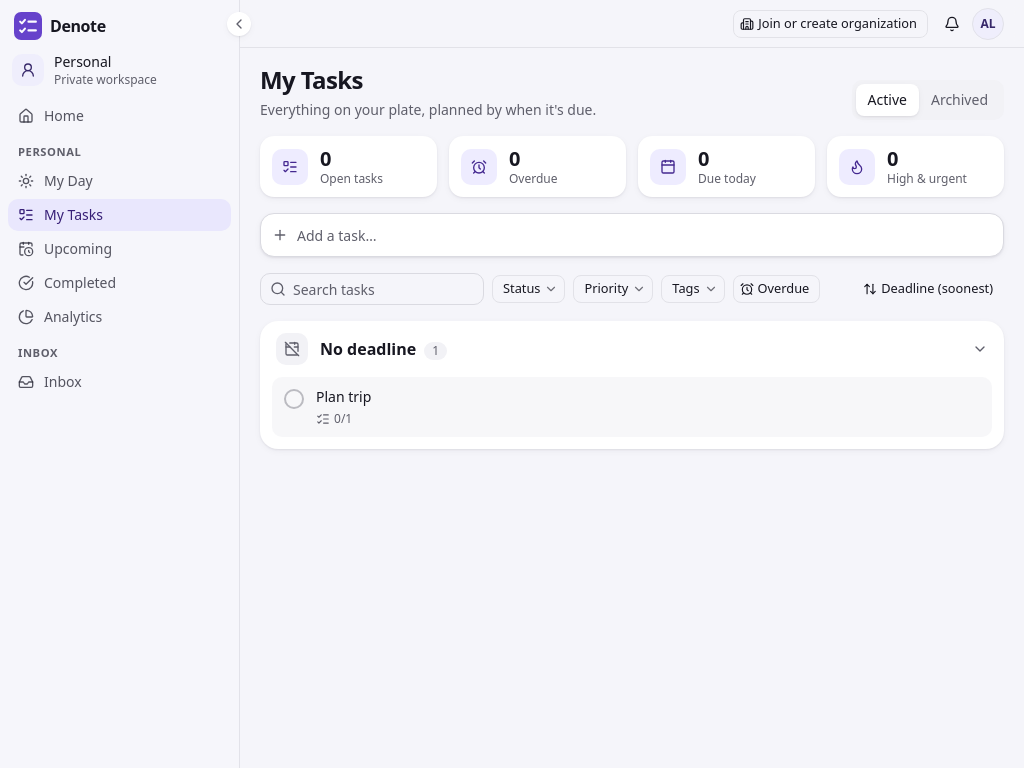
Test: creating and completing › ticks a task optimistically and rolls back when the server refuses
Click the checkbox named "complete “plan trip”".
click(294, 399)  # box [284, 389, 304, 409]
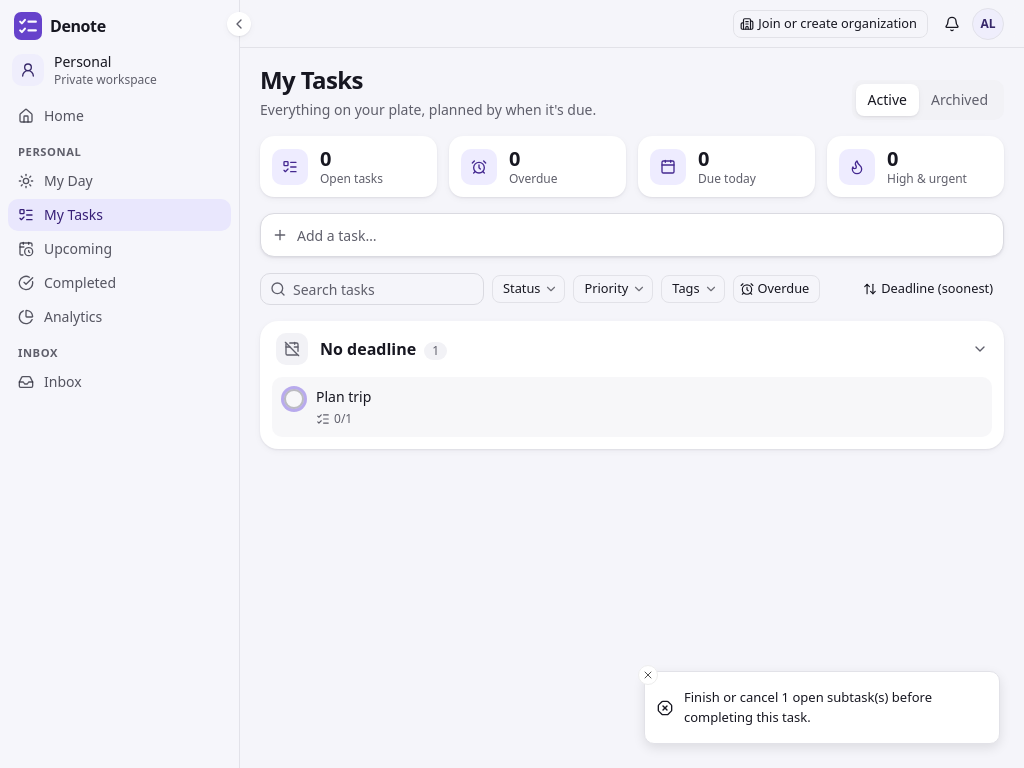
Expected: the text "open subtask" is shown, [684, 688, 932, 726]
